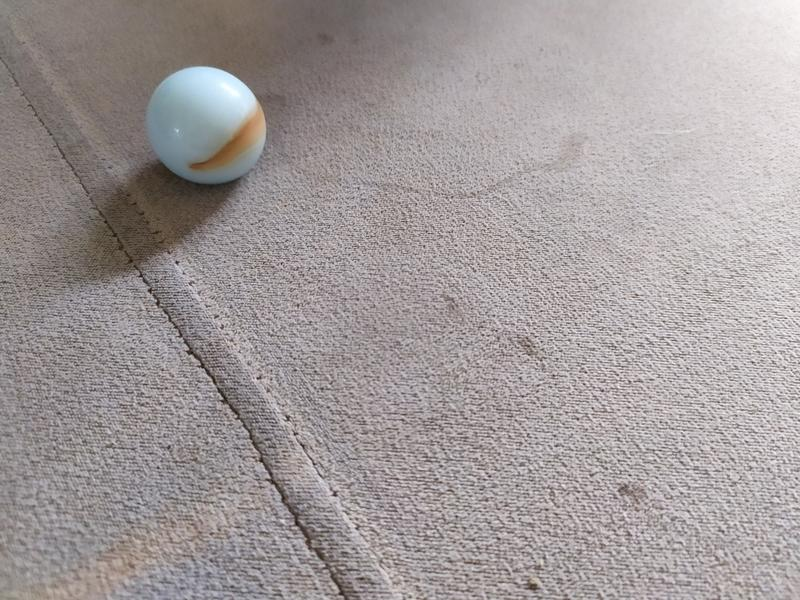Warning: (142, 63, 270, 188)
